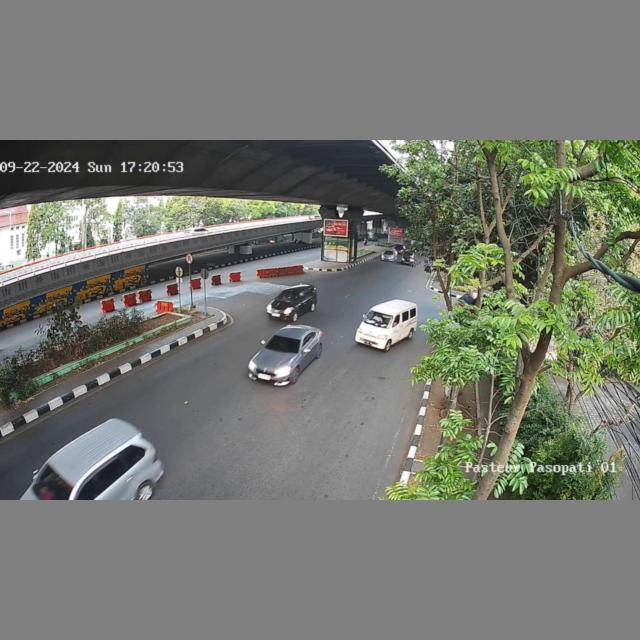windshield: (265, 333, 303, 356), (364, 309, 393, 331), (277, 290, 296, 304)
